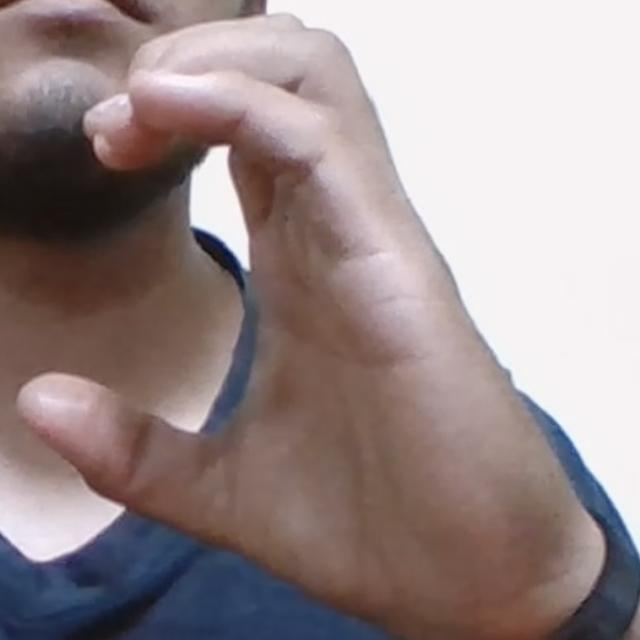C: (7, 2, 599, 639)
